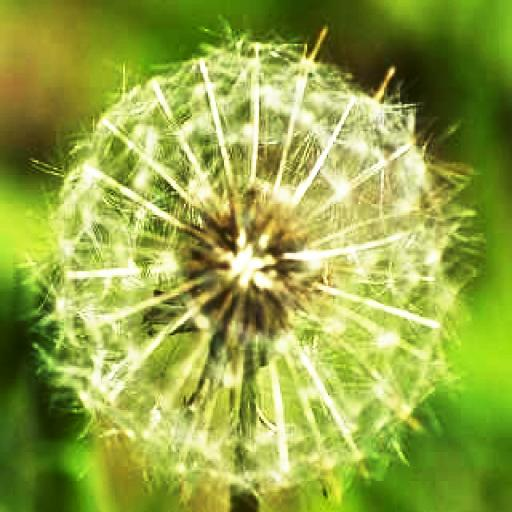dandelion: (32, 31, 470, 490)
